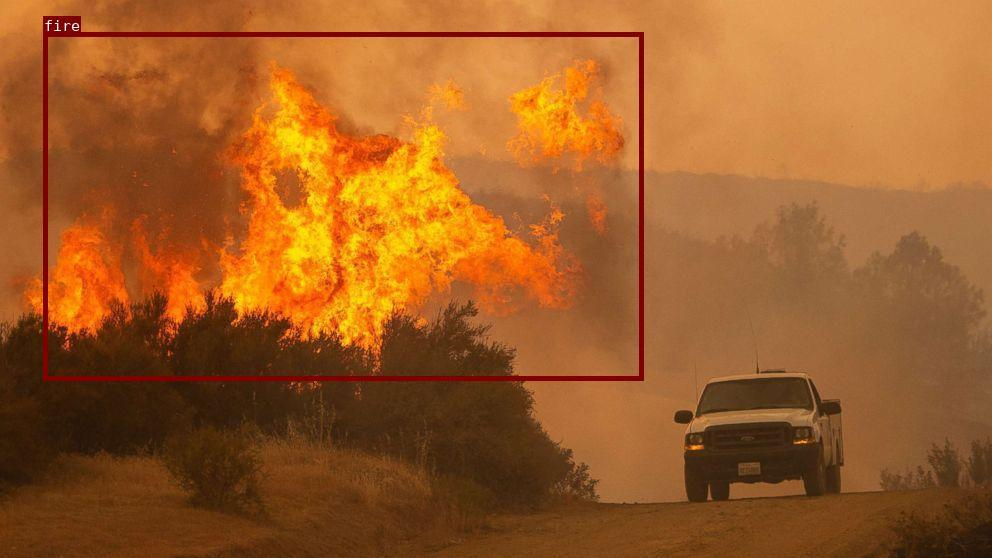fire: (42, 32, 642, 379)
